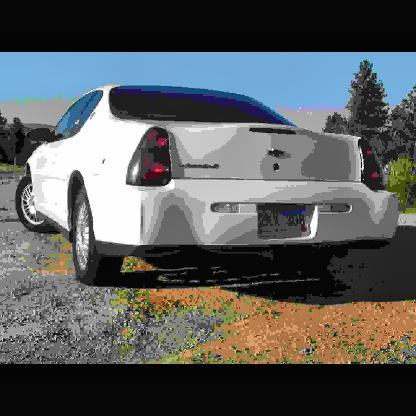Chevrolet Monte Carlo Coupe 2007: (18, 87, 400, 285)
